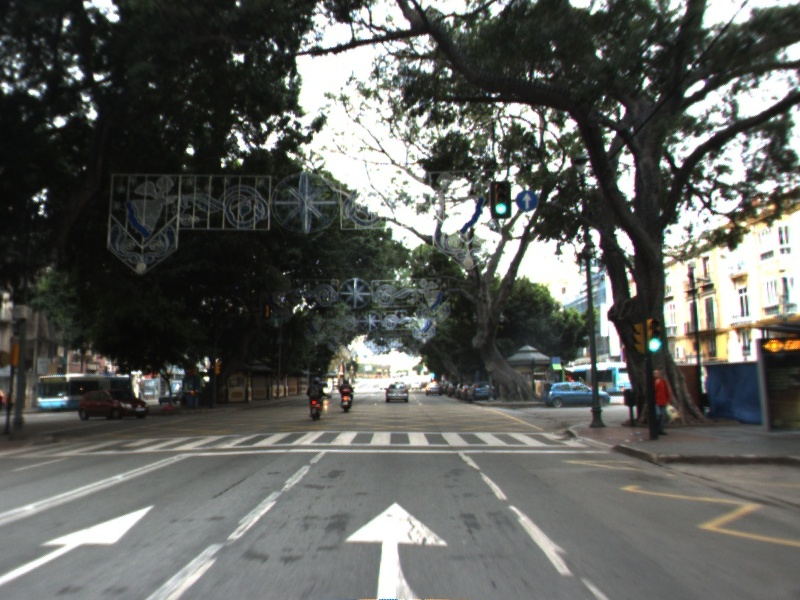STRAIGHT: (1, 501, 159, 585), (340, 498, 453, 600)
